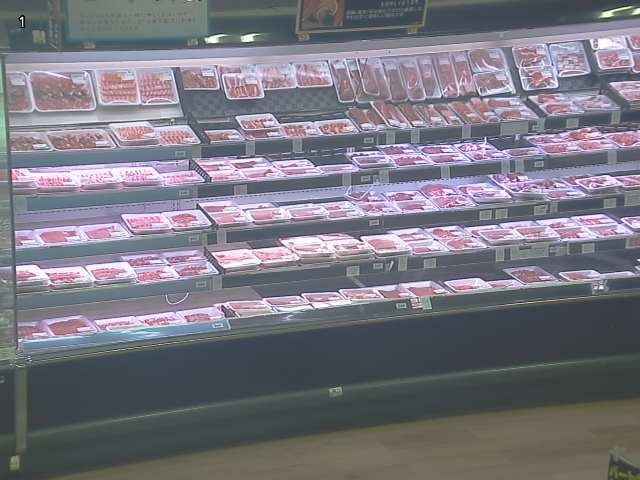meat: (0, 173, 639, 253), (6, 265, 604, 346), (0, 124, 639, 198), (178, 50, 537, 144), (211, 211, 639, 274), (0, 248, 220, 297), (5, 71, 179, 112), (6, 120, 202, 153), (508, 43, 589, 90), (527, 91, 619, 117), (592, 35, 639, 72), (607, 81, 639, 104)
meatless: (2, 248, 639, 324), (8, 87, 368, 129), (559, 72, 639, 109), (265, 145, 378, 165), (31, 160, 191, 173), (1, 216, 119, 231), (206, 237, 284, 252), (37, 255, 121, 268), (606, 205, 638, 223), (490, 138, 534, 149)
